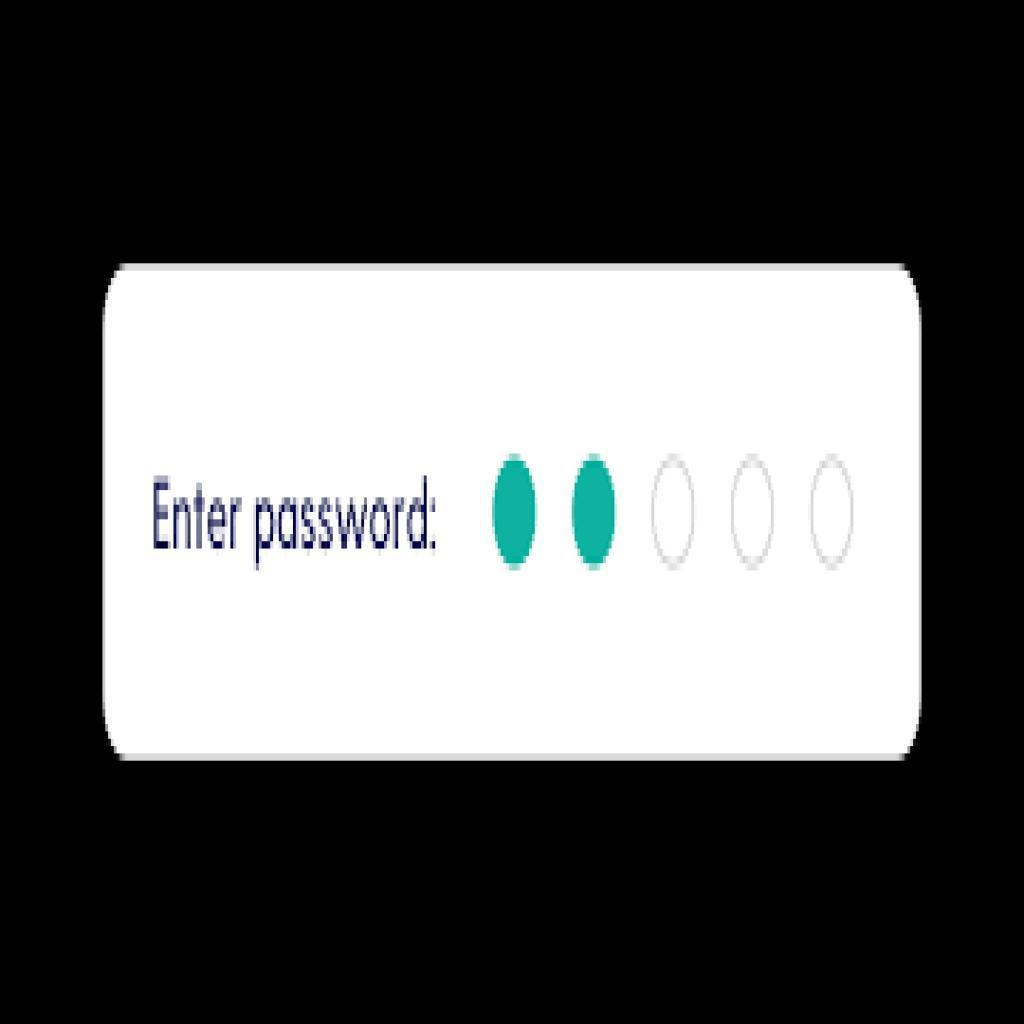radio: (723, 456, 781, 574), (571, 450, 623, 573), (643, 457, 698, 572), (491, 450, 538, 580), (807, 454, 859, 571)
